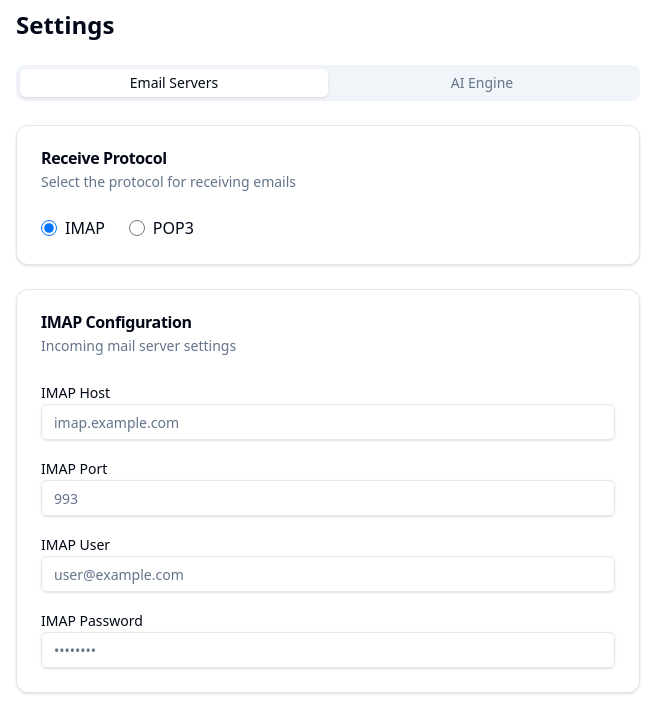
Test: SettingsPage › AI Engine Tab › should render LLM configuration card when AI tab is clicked
What coordinates should you click on to do the following:
click the tab "AI Engine"
I would click on:
 (482, 83)
Its box is [328, 69, 636, 97].
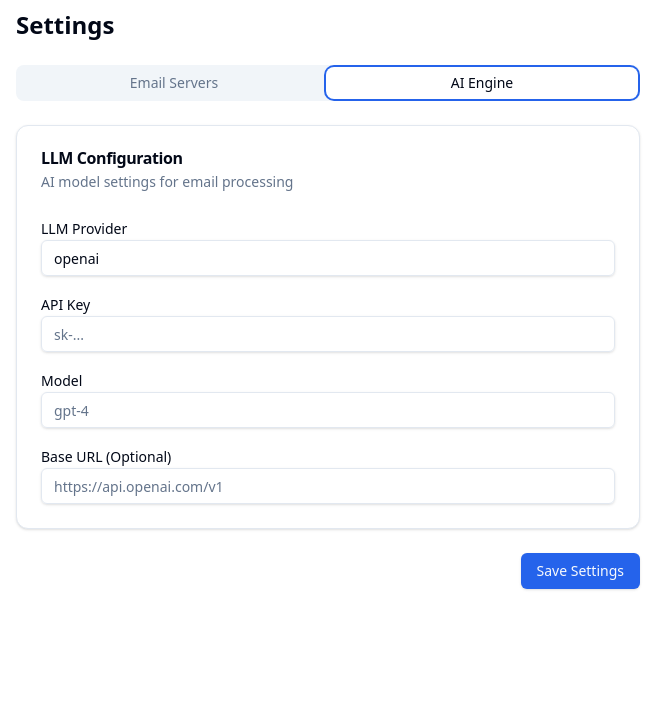
Expected: the text "LLM Configuration" is shown, [41, 147, 183, 169]
